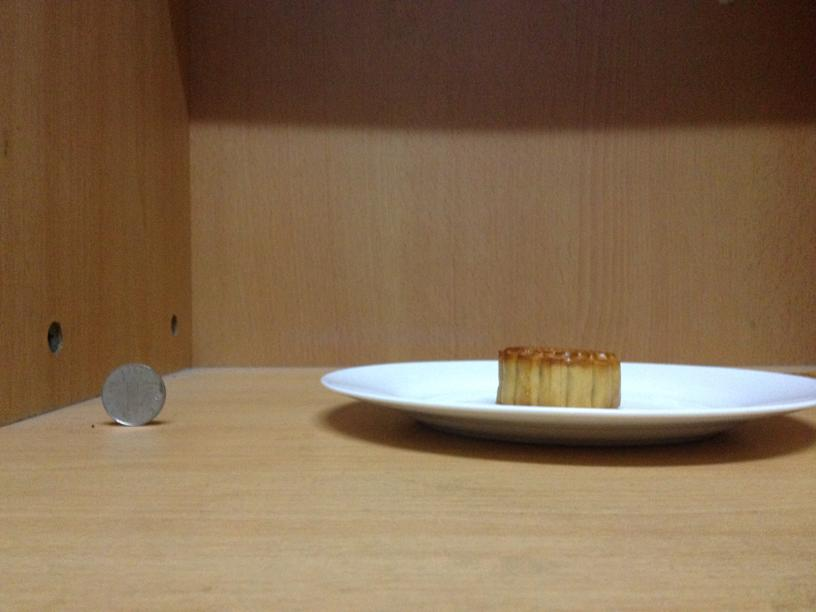coin: (98, 362, 166, 425)
mooncake: (493, 345, 620, 407)
